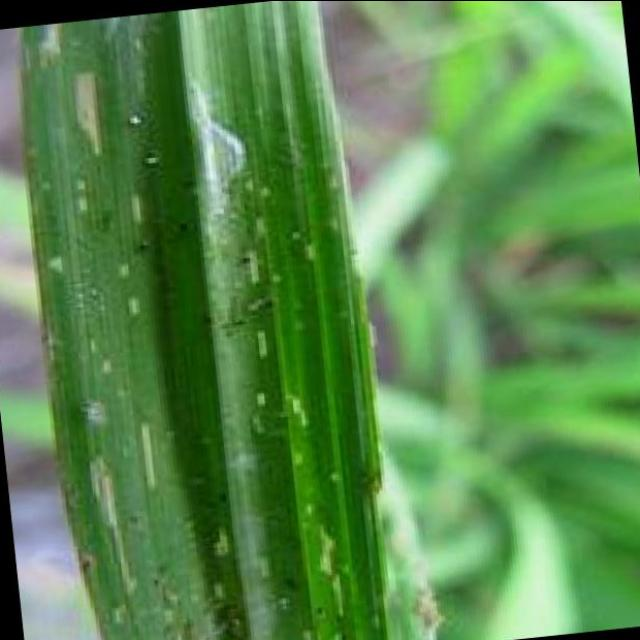leaf folder: (207, 120, 246, 178)
